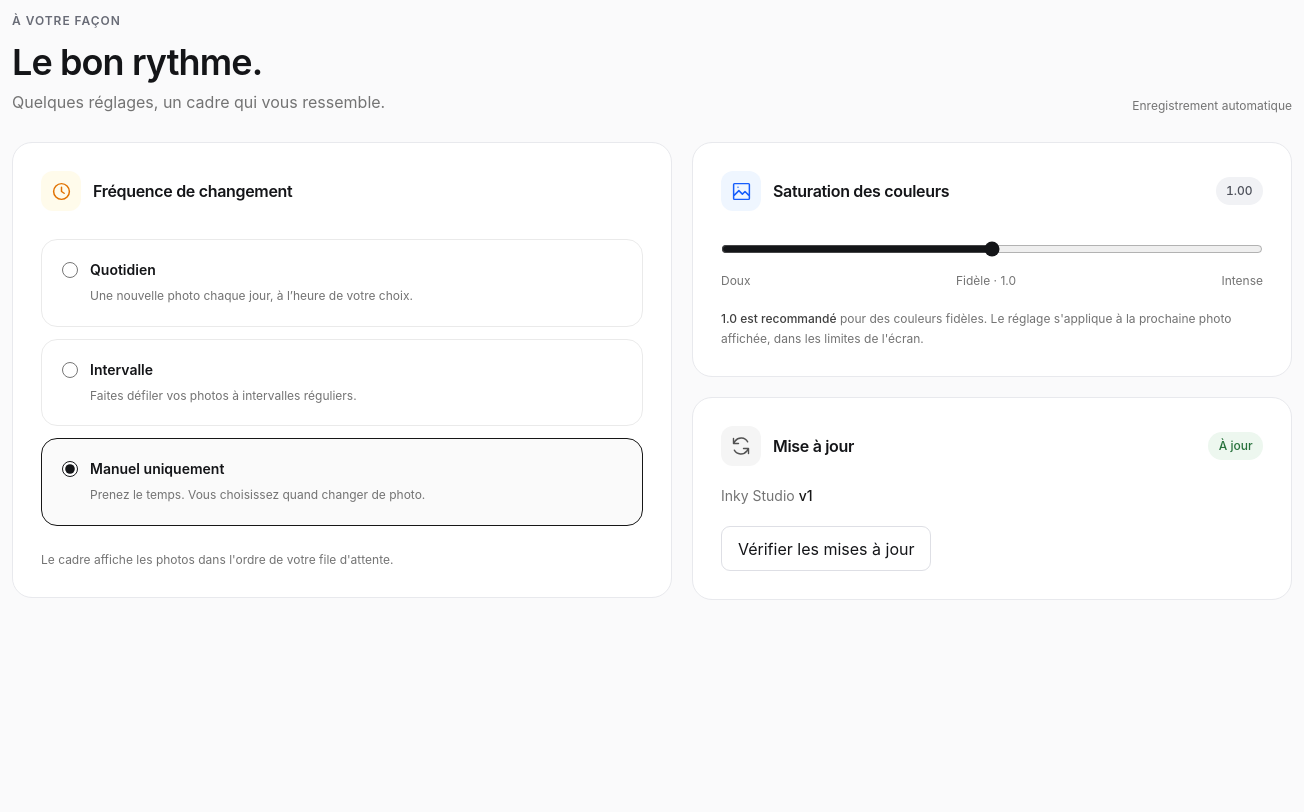
it: keeps newer saved settings when an older event read completes
This screenshot has width=1304, height=812.
Set the slider to "1.5" at coordinates (1124, 249), box x1=721 y1=235 x2=1263 y2=263
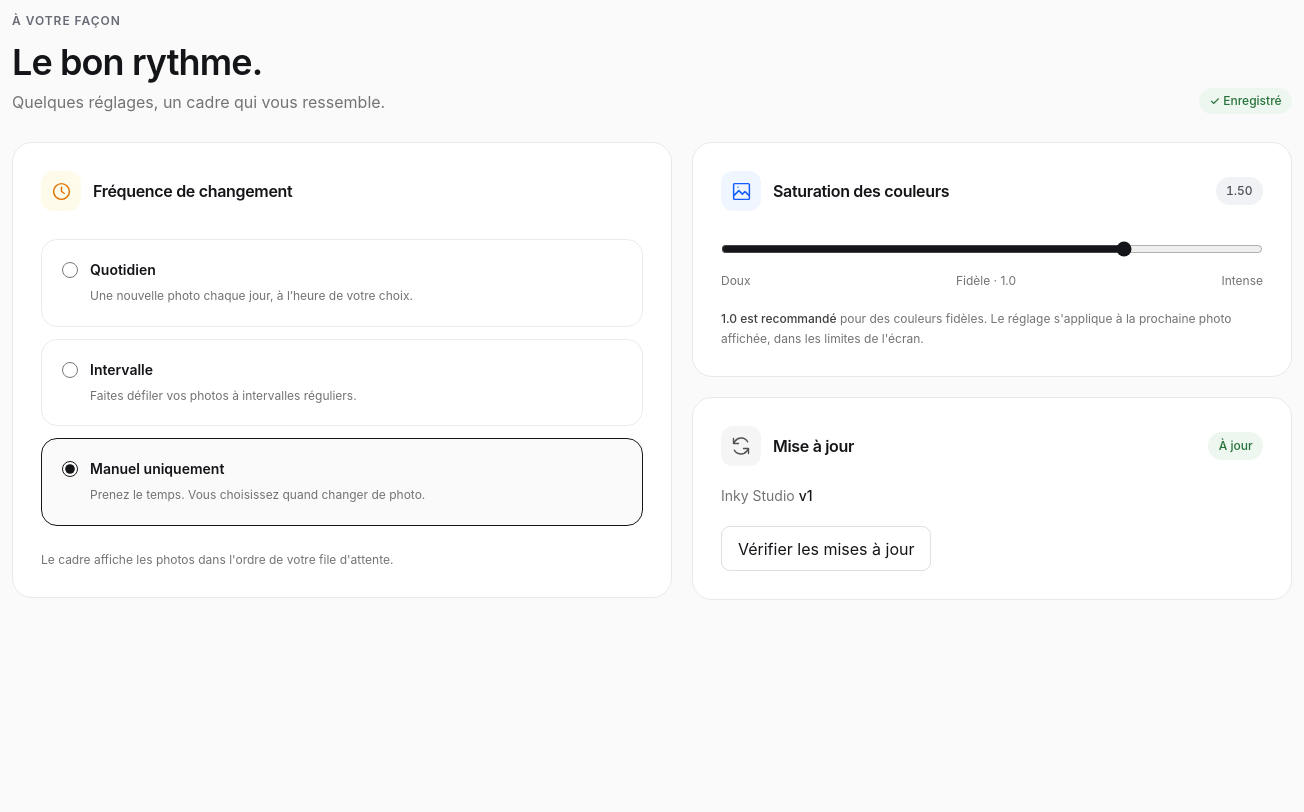
Expected: the text "✓ Enregistré" is shown, x1=1199 y1=88 x2=1292 y2=114
